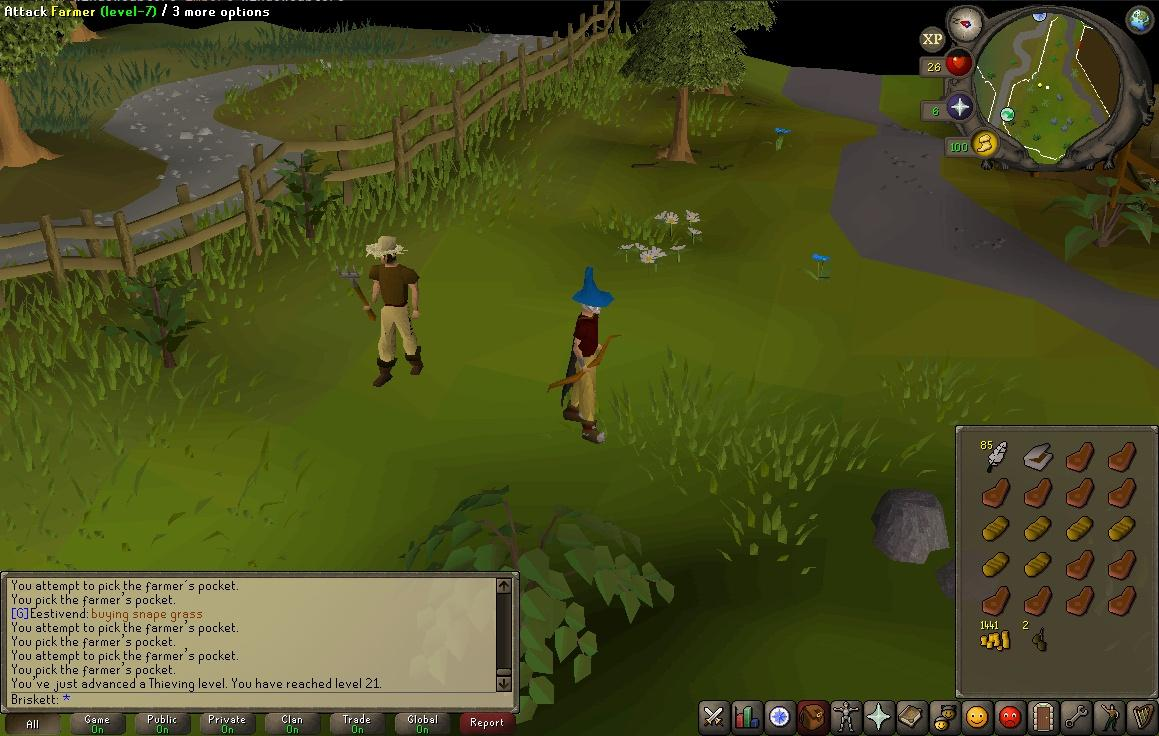Farmer: (364, 235, 424, 388)
